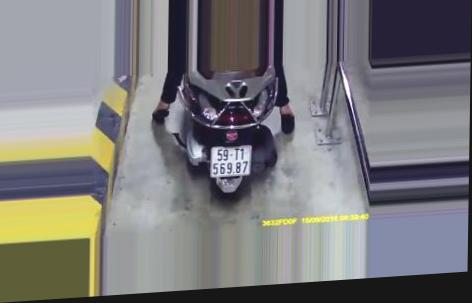License_Plate: (207, 142, 257, 182)
